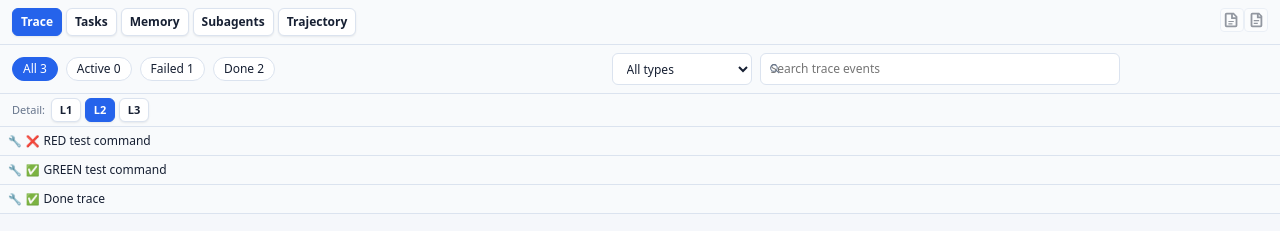
TraceTimeline › counts non-zero command exits as failed trace entries
Expected: the button with test id "trace-filter-done" reads "Done 2", top-left (213, 57), bottom-right (275, 81)
Click the button with test id "trace-filter-failed": (172, 69) top-left (140, 57), bottom-right (205, 81)
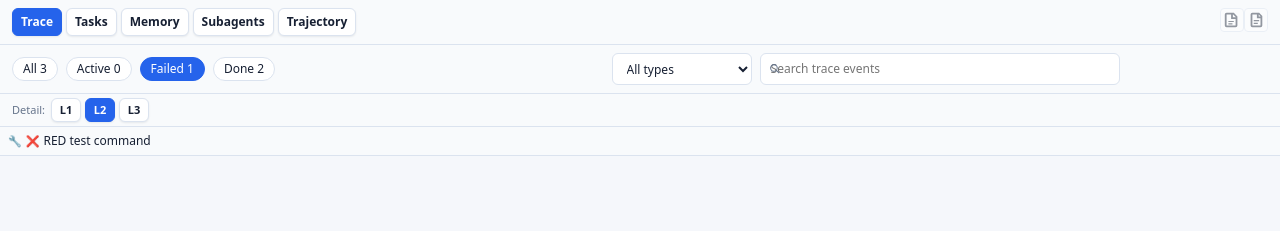
Expected: the text "RED test command" is shown, top-left (43, 132), bottom-right (151, 149)
Now the text "GREEN test command" is gone
Now the text "Done trace" is gone
